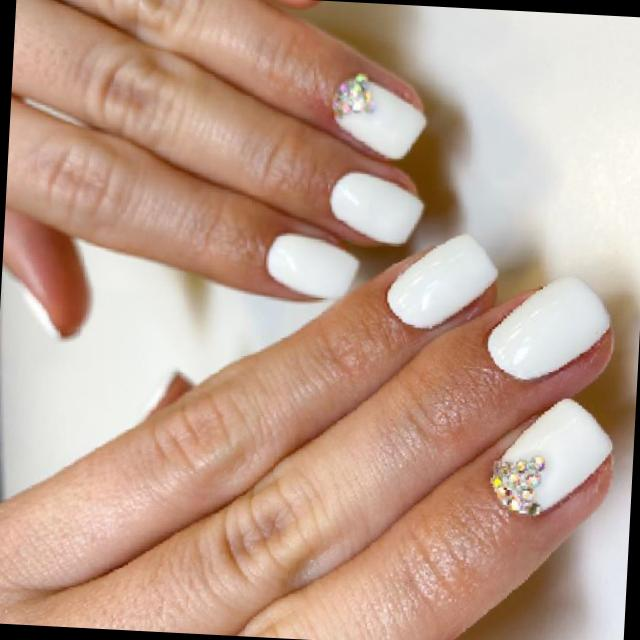Nail: (492, 398, 611, 513), (488, 276, 610, 379), (387, 236, 497, 327), (331, 73, 425, 157), (330, 171, 423, 244), (266, 233, 358, 298), (27, 291, 60, 333)
